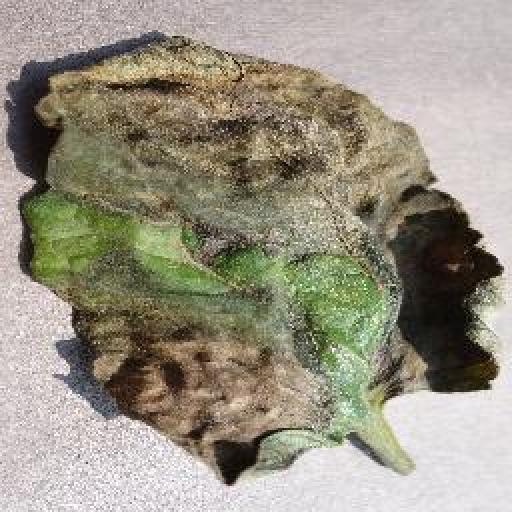Late Blight: (24, 36, 505, 488)
